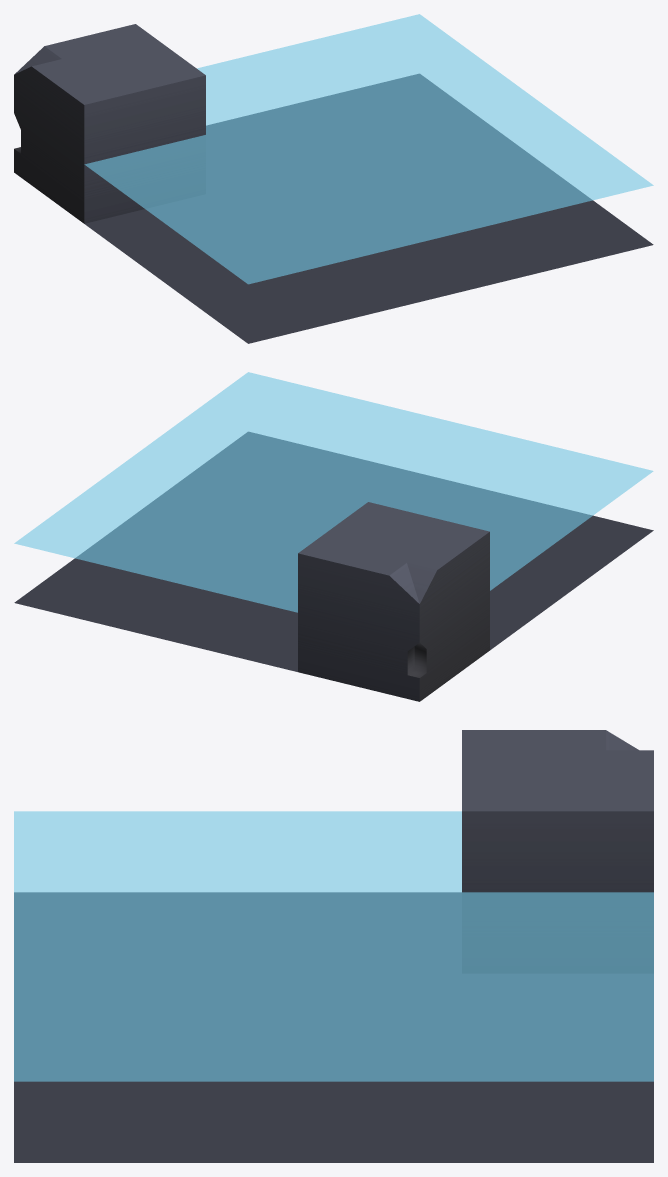
The model's file is fountain-corner-inner-square.glb.
The picture shows the model from 3 angles, top to bottom: view 1: azimuth 30°, elevation 25°; view 2: azimuth 150°, elevation 25°; view 3: azimuth 270°, elevation 25°; orthographic projection. The views are drawn at different scales.
Visible parts, largest first — view 1: fountain-corner-inner-square, (_ignore); view 2: fountain-corner-inner-square, (_ignore); view 3: fountain-corner-inner-square, (_ignore).
Part boxes in pixels (x1,y1,x2,y2): fountain-corner-inner-square: (14,24,653,343); (_ignore): (84,14,653,284); fountain-corner-inner-square: (14,432,653,701); (_ignore): (14,372,653,612); fountain-corner-inner-square: (14,730,653,1162); (_ignore): (14,811,653,1081).
Size of the model in its own units: 1 by 0.28 by 1.
2 materials, 1 textured.
